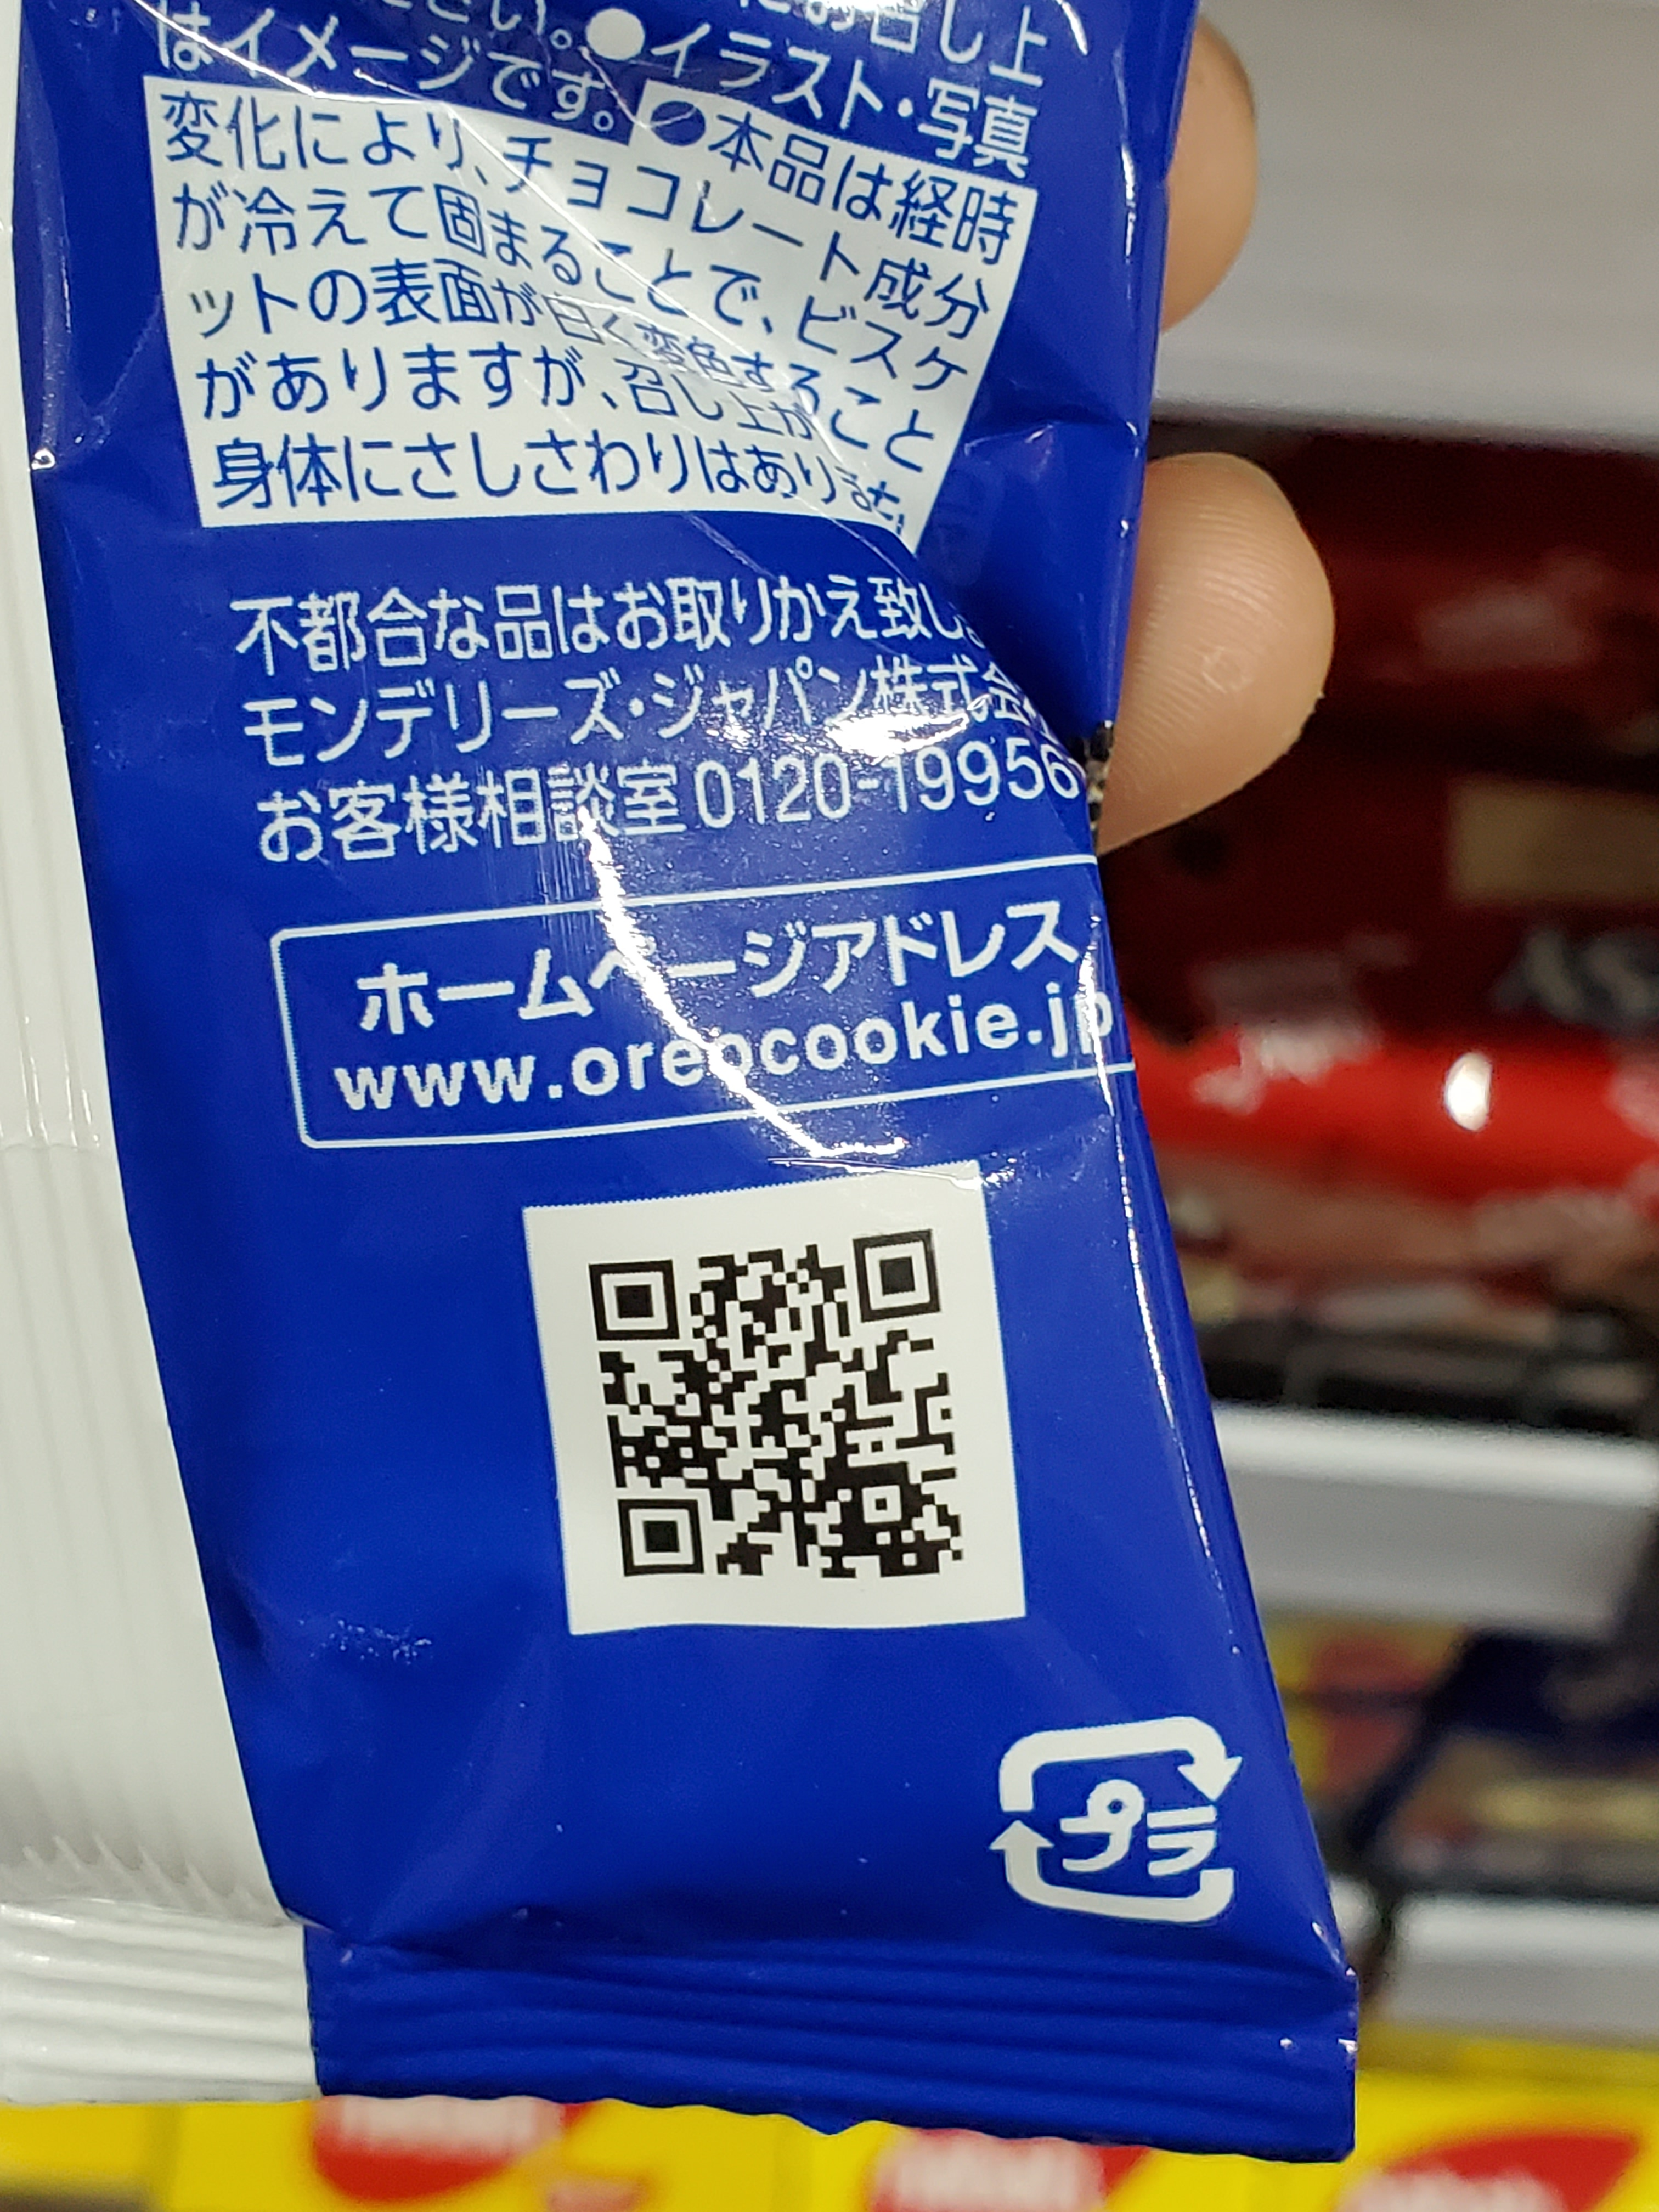qr code: (540, 1202, 997, 1611)
